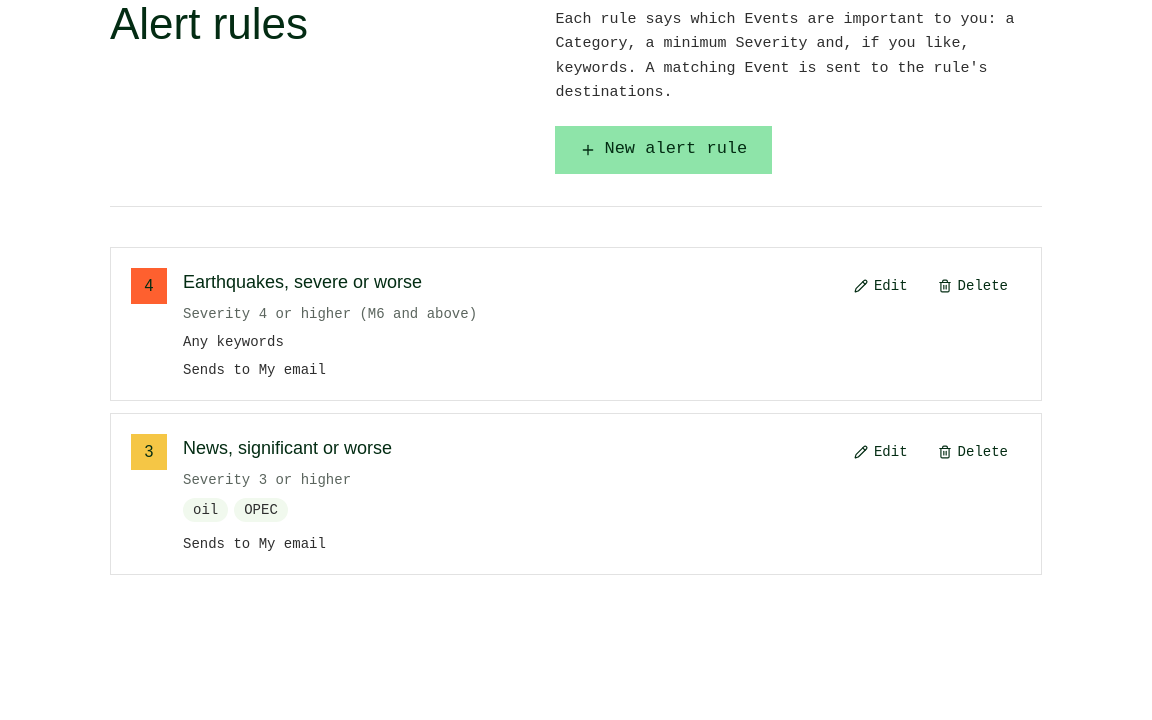
Test: RulesPage › describes each rule in plain words and refreshes the list after a delete
Expected: the text "Severity 4 or higher (M6 and above)" is shown, [183,306,477,322]
Expected: the text "Sends to My email" is shown 2 times, [183,362,326,378]; [183,536,326,552]
Click the button with aria-label "Delete rule: Earthquakes, severe or worse". click: coordinates (973, 286)
box: [925,268,1021,304]
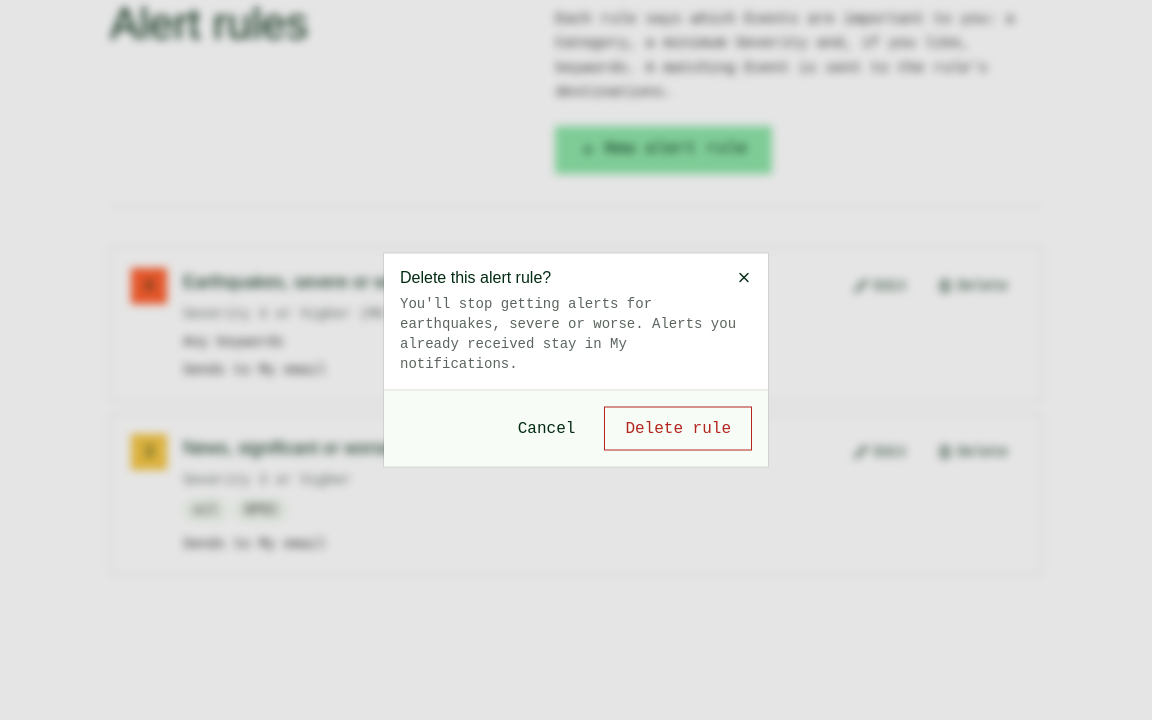
Click the button "Delete rule". click: coordinates (678, 428)
box: [604,406,752,450]
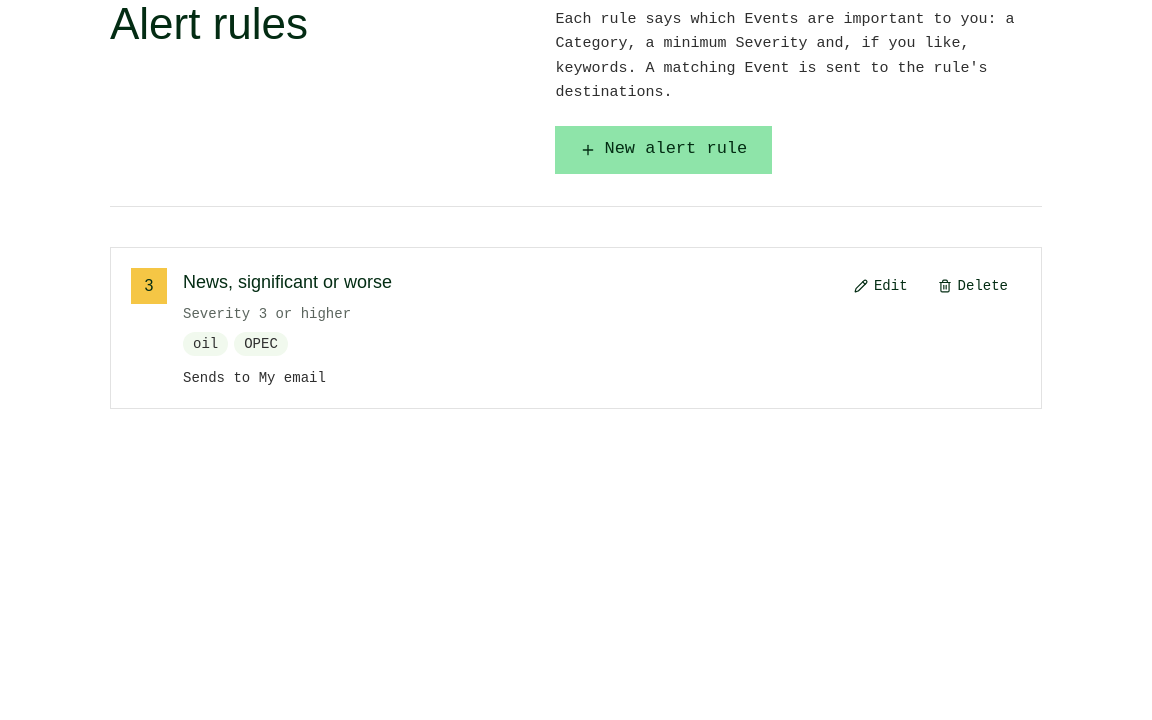
Expected: the heading "Earthquakes, severe or worse" is gone
